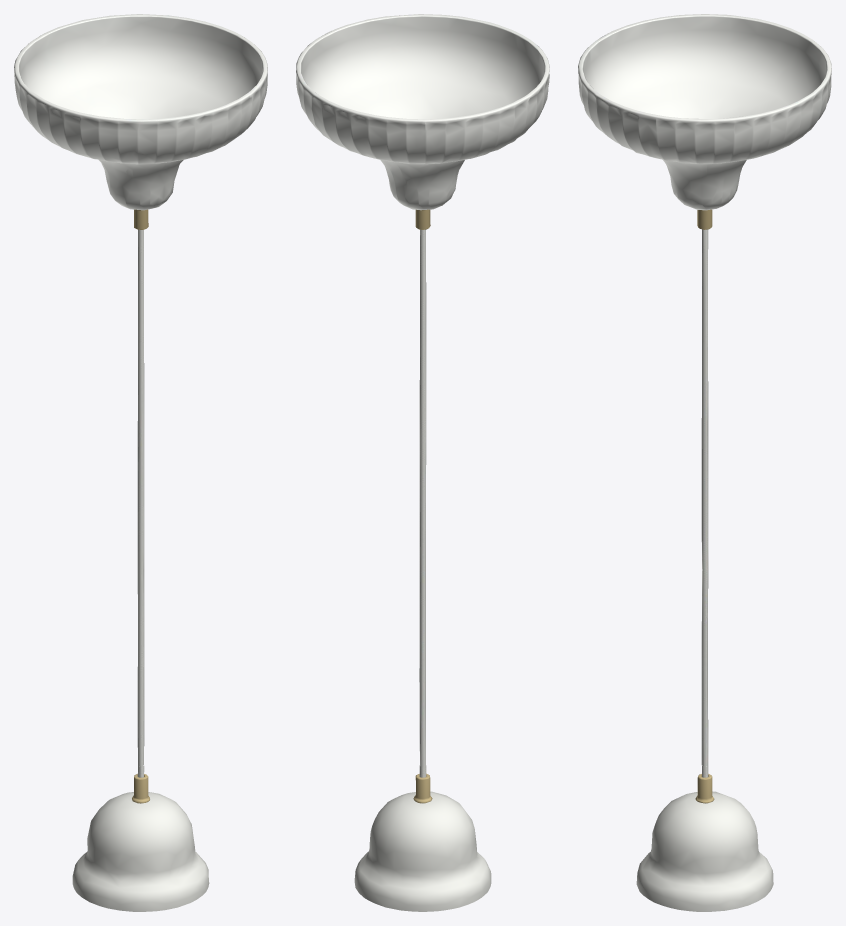
File: skivtofs_lampa_wiszaca_20596706.glb
The picture shows the model from 3 angles, left to right: view 1: azimuth 30°, elevation 25°; view 2: azimuth 150°, elevation 25°; view 3: azimuth 270°, elevation 25°; orthographic projection.
Visible parts, largest first — view 1: skivtofs_lampa_wiszaca_20596706; view 2: skivtofs_lampa_wiszaca_20596706; view 3: skivtofs_lampa_wiszaca_20596706.
Boxes of the visible parts, x1,y1,x2,y2 form: skivtofs_lampa_wiszaca_20596706: [14, 14, 267, 911]; skivtofs_lampa_wiszaca_20596706: [296, 14, 549, 911]; skivtofs_lampa_wiszaca_20596706: [578, 14, 831, 911].
Bounding box in the file's own units: 0.2447 × 0.8676 × 0.2445.
Materials: 1 (1 with a texture image).
